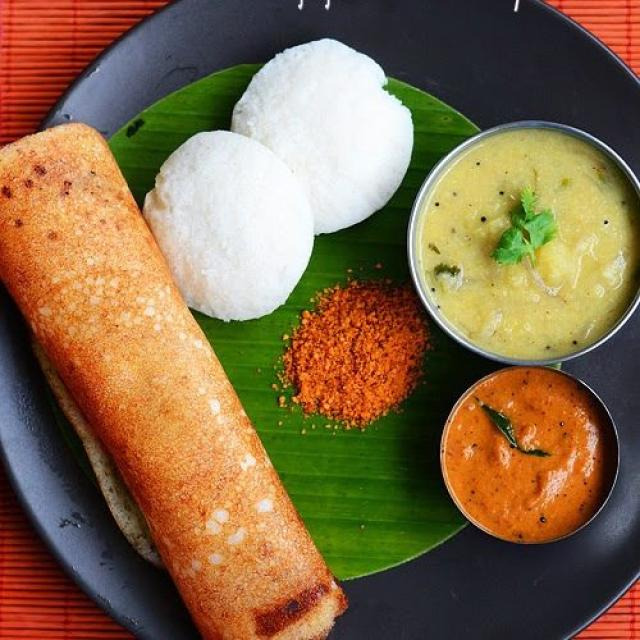IDLI: (0, 117, 346, 639), (232, 37, 419, 236), (139, 132, 317, 316)
